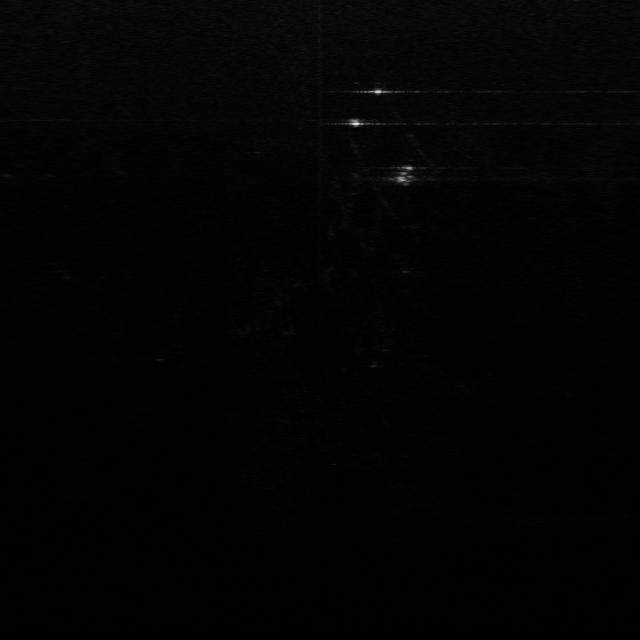rov: (392, 162, 427, 185)
